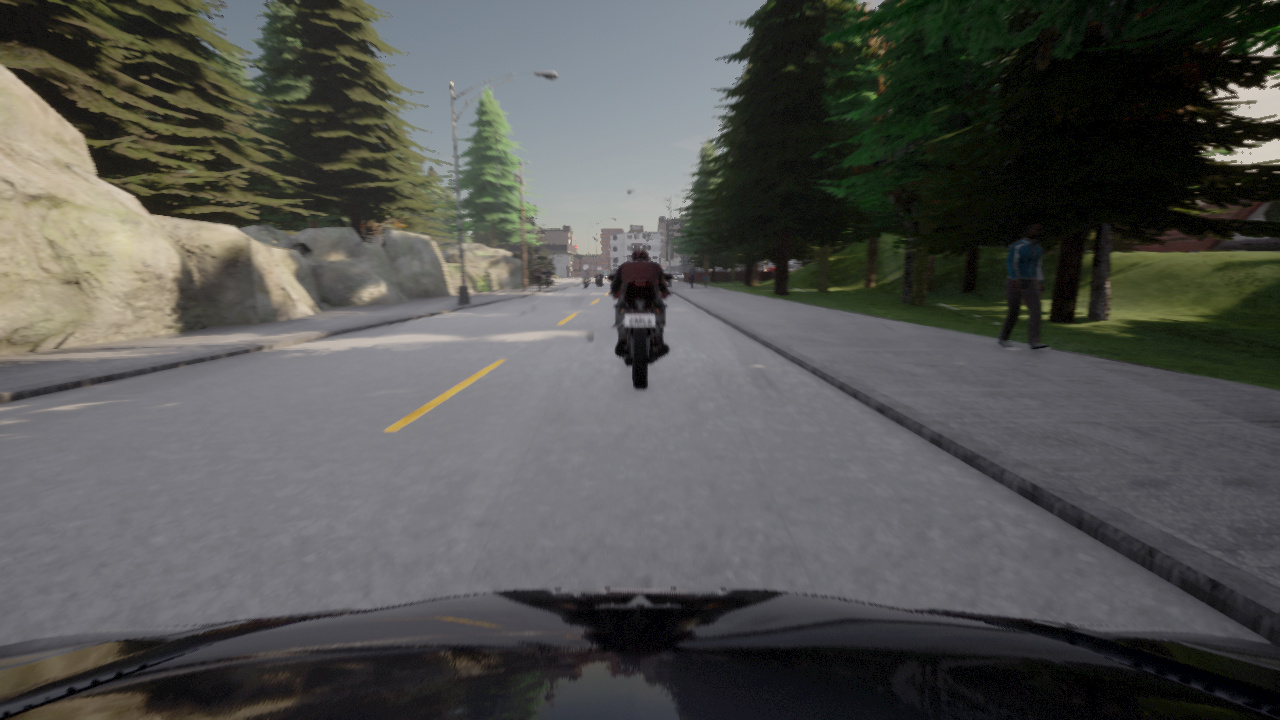cyclist: (0, 588, 1279, 719), (607, 274, 672, 388), (580, 274, 589, 288), (594, 275, 602, 286), (670, 272, 677, 275), (676, 273, 683, 275)
pedestrian: (997, 221, 1047, 350), (534, 263, 542, 290), (688, 264, 696, 288), (543, 265, 550, 287), (703, 274, 707, 288)
